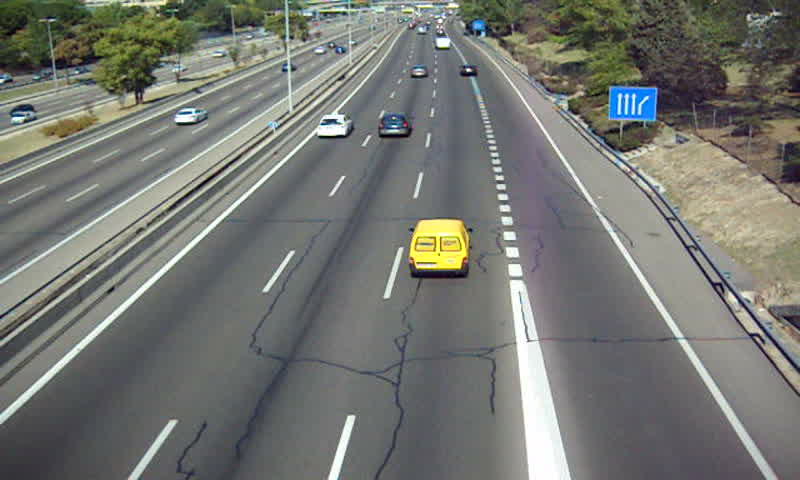car: (377, 112, 414, 138), (316, 115, 353, 137), (410, 65, 429, 80), (460, 64, 479, 78)
van: (409, 219, 471, 278)
